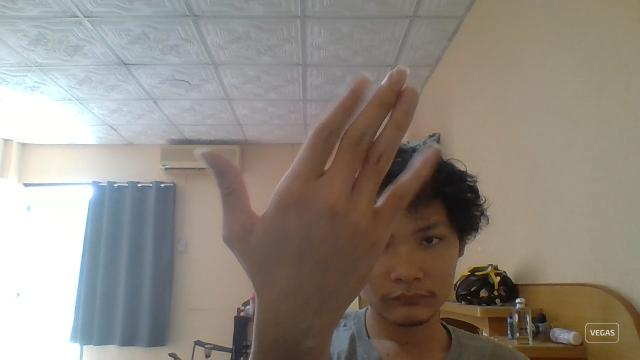backword: (193, 63, 439, 357)
